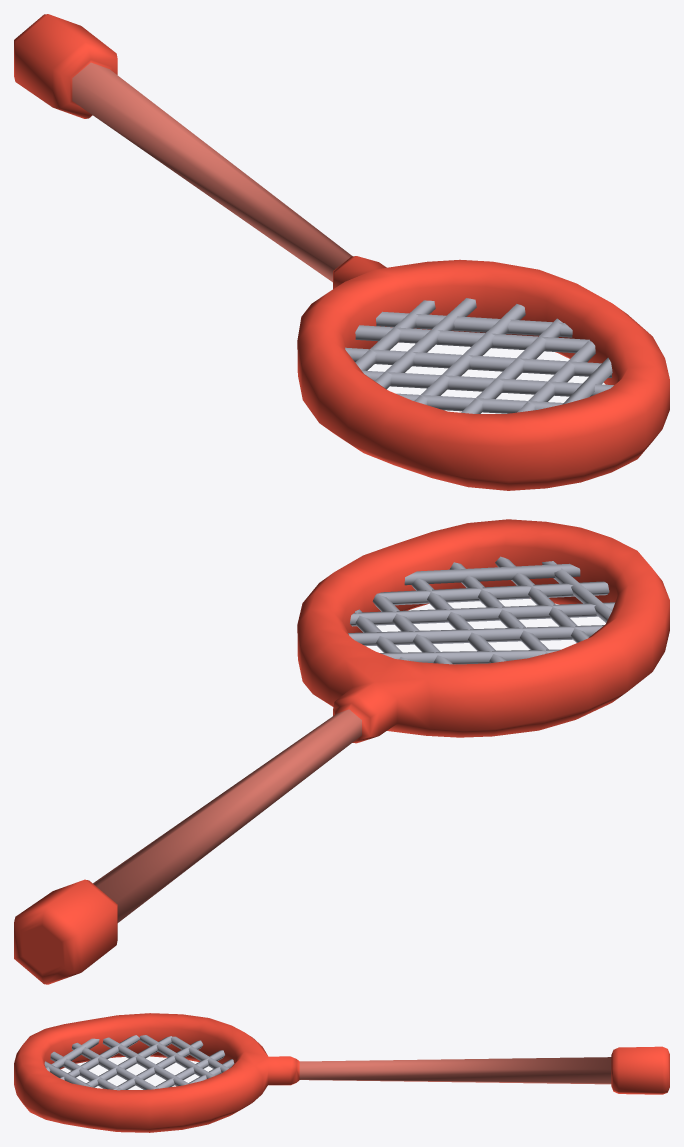
Rendered from cac6.fbx.
The picture shows the model from 3 angles, top to bottom: view 1: azimuth 30°, elevation 25°; view 2: azimuth 150°, elevation 25°; view 3: azimuth 270°, elevation 25°; orthographic projection. The views are drawn at different scales.
Parts seen in each view (by area): view 1: racket; view 2: racket; view 3: racket.
Part boxes in pixels (x1,y1,x2,y2): racket: (14,14,669,490); racket: (14,519,669,984); racket: (14,1013,669,1132).
Size of the model in its own units: 0.5191 by 1.58 by 0.1283.
